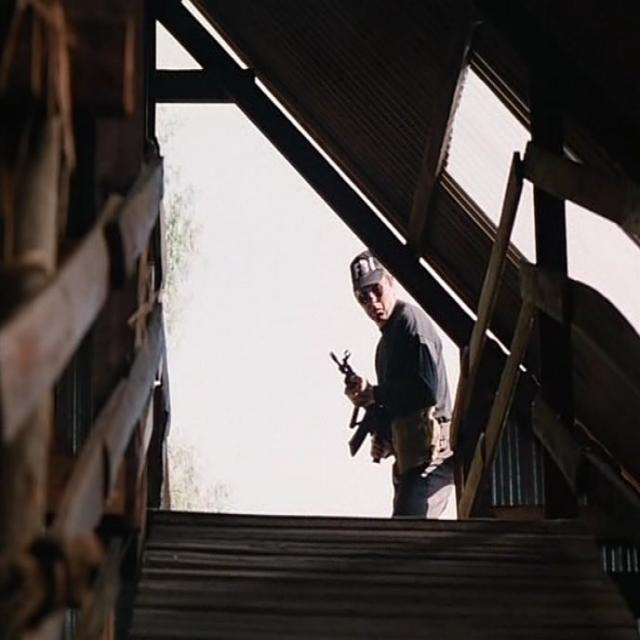gun-knife-thesis - v11 Yolov5 augmented: (313, 352, 402, 475)
